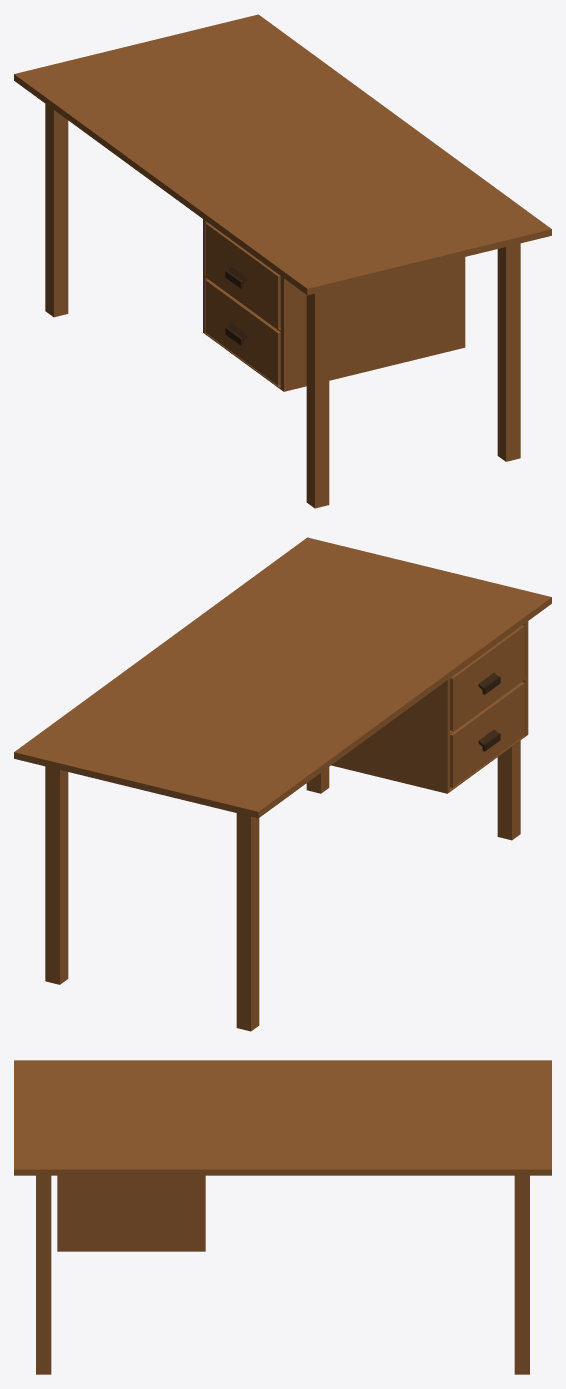
The model's file is Desk.fbx.
The picture shows the model from 3 angles, top to bottom: view 1: azimuth 30°, elevation 25°; view 2: azimuth 150°, elevation 25°; view 3: azimuth 270°, elevation 25°; orthographic projection. The views are drawn at different scales.
Visible parts, largest first — view 1: Table; view 2: Table; view 3: Table.
Part boxes in pixels (x1,y1,x2,y2): Table: [14, 14, 551, 508]; Table: [14, 537, 551, 1031]; Table: [14, 1060, 551, 1374].
Bounding box in the file's own units: 145 × 128 × 293.
